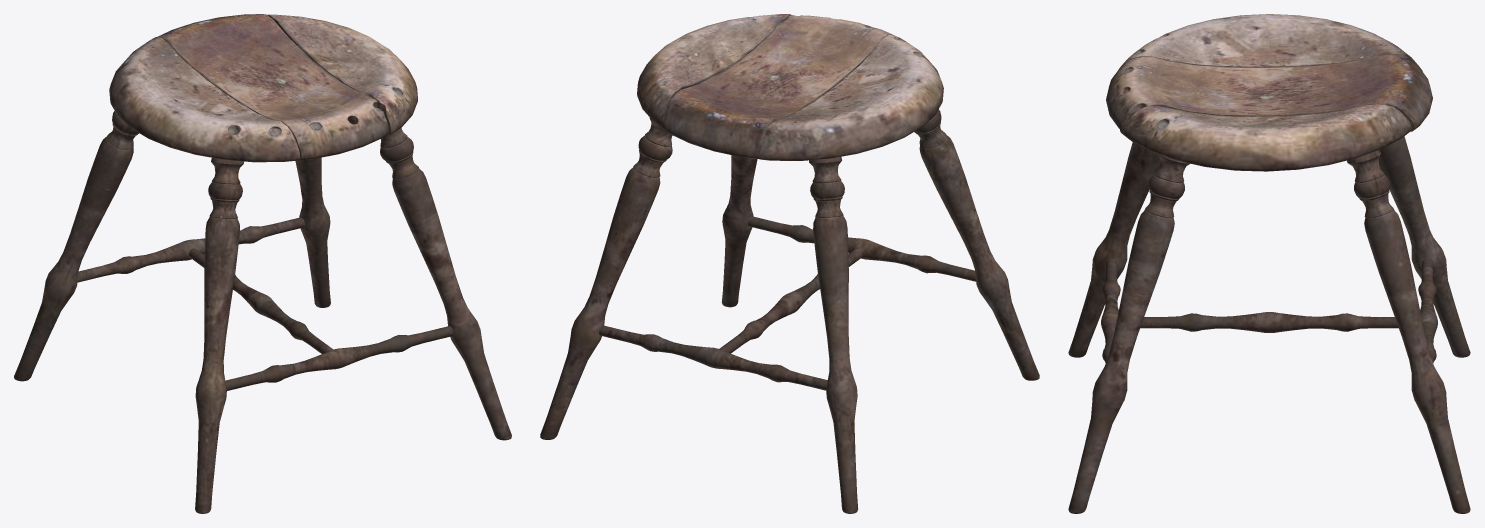
3 views of the same model, side by side, from view 1: azimuth 30°, elevation 25°; view 2: azimuth 150°, elevation 25°; view 3: azimuth 270°, elevation 25° (orthographic). The views are drawn at different scales.
Parts seen in each view (by area): view 1: wooden_stool_01; view 2: wooden_stool_01; view 3: wooden_stool_01.
Part boxes in pixels (<box>): wooden_stool_01: <box>14,14,511,513</box>; wooden_stool_01: <box>540,14,1039,513</box>; wooden_stool_01: <box>1068,14,1470,513</box>.
Size of the model in its own units: 0.4254 by 0.4374 by 0.4424.
Materials: 1 (1 with a texture image).
